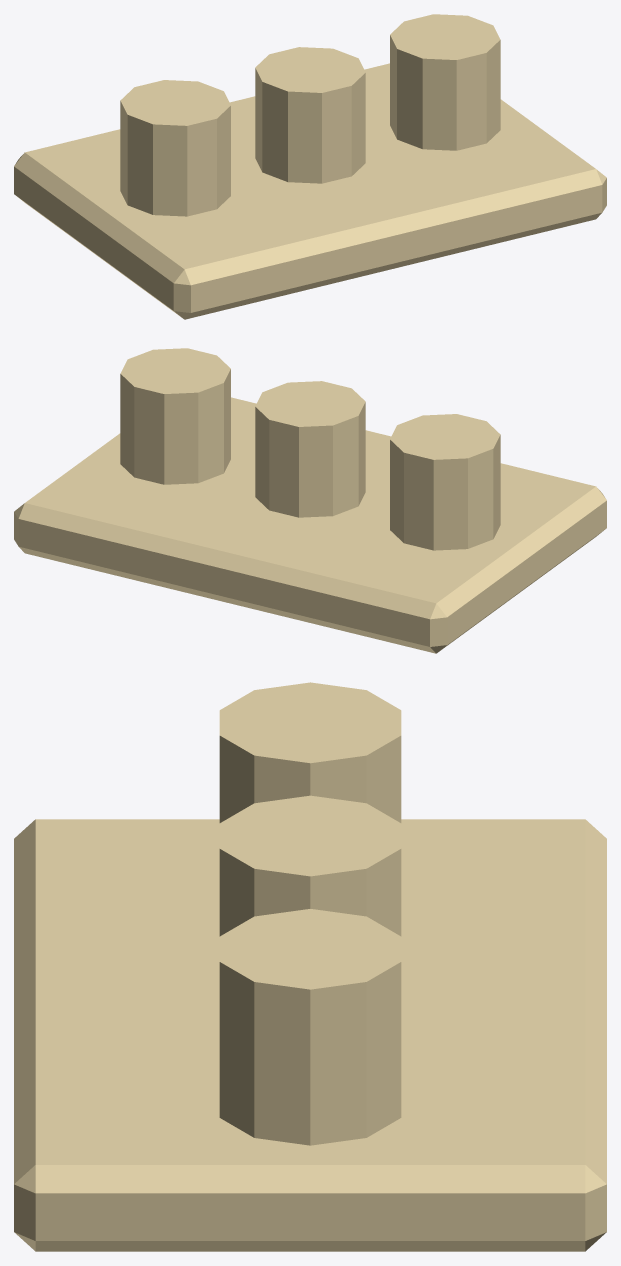
File: residential_accessories_15.glb
3 renders of one model, top to bottom at view 1: azimuth 30°, elevation 25°; view 2: azimuth 150°, elevation 25°; view 3: azimuth 270°, elevation 25°, orthographic. The views are drawn at different scales.
Parts seen in each view (by area): view 1: Cloth, Roll_001, Roll_002, Roll; view 2: Cloth, Roll_001, Roll_002, Roll; view 3: Cloth, Roll_002, Roll, Roll_001.
Part boxes in pixels (x1,y1,x2,y2): Cloth: (14,63,606,319); Roll_001: (255,47,365,183); Roll_002: (390,14,500,150); Roll: (120,80,230,216); Cloth: (14,397,606,653); Roll_001: (255,381,365,517); Roll_002: (120,348,230,484); Roll: (390,414,500,550); Cloth: (14,819,606,1251); Roll_002: (219,909,401,1145); Roll: (219,682,401,822); Roll_001: (219,795,401,936).
Size of the model in its own units: 0.45 by 0.14 by 0.31.
